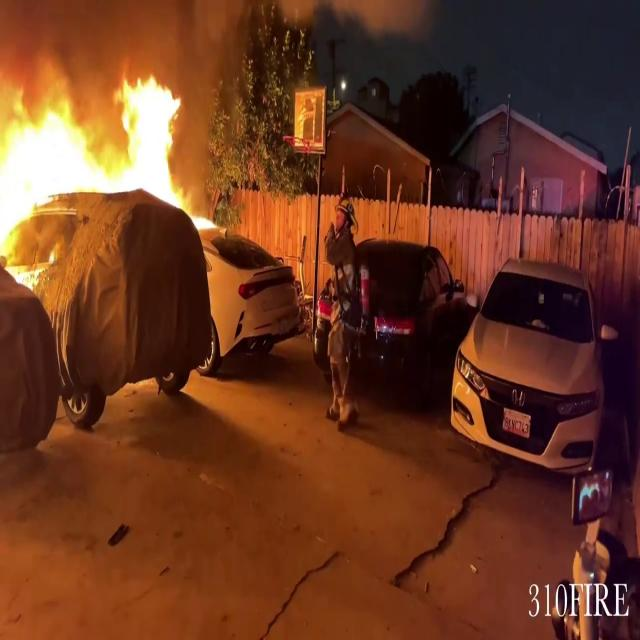Fire: (1, 67, 182, 206)
